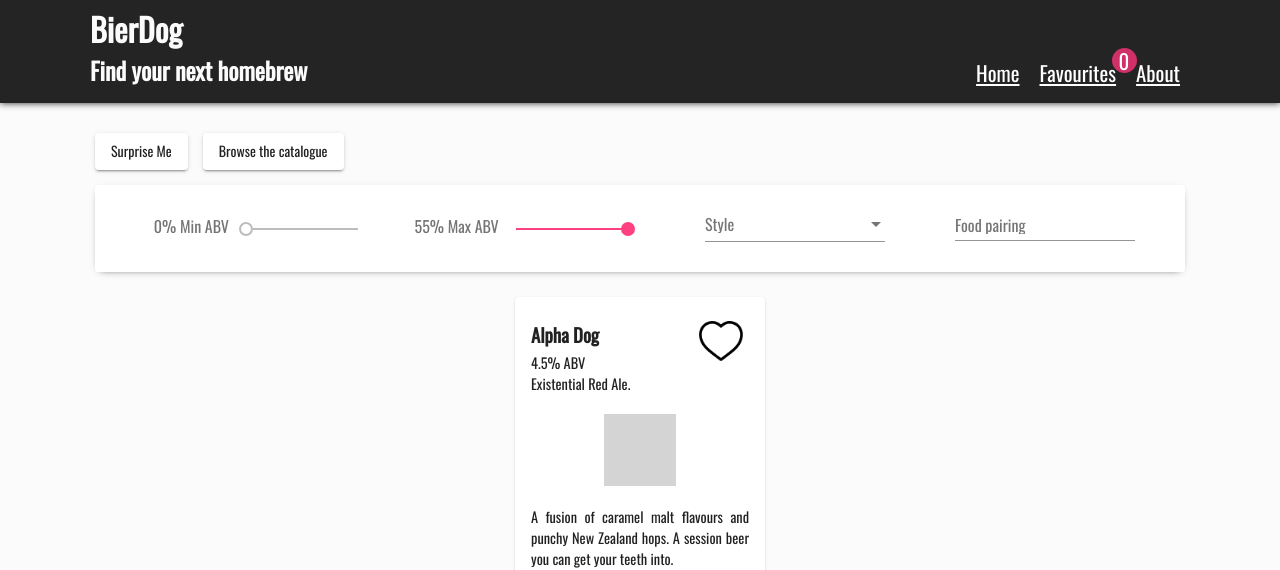
Scenario: the search feature › should edit min slider
Focus the slider with test id "min". click: (302, 229)
box: left=239, top=222, right=365, bottom=236
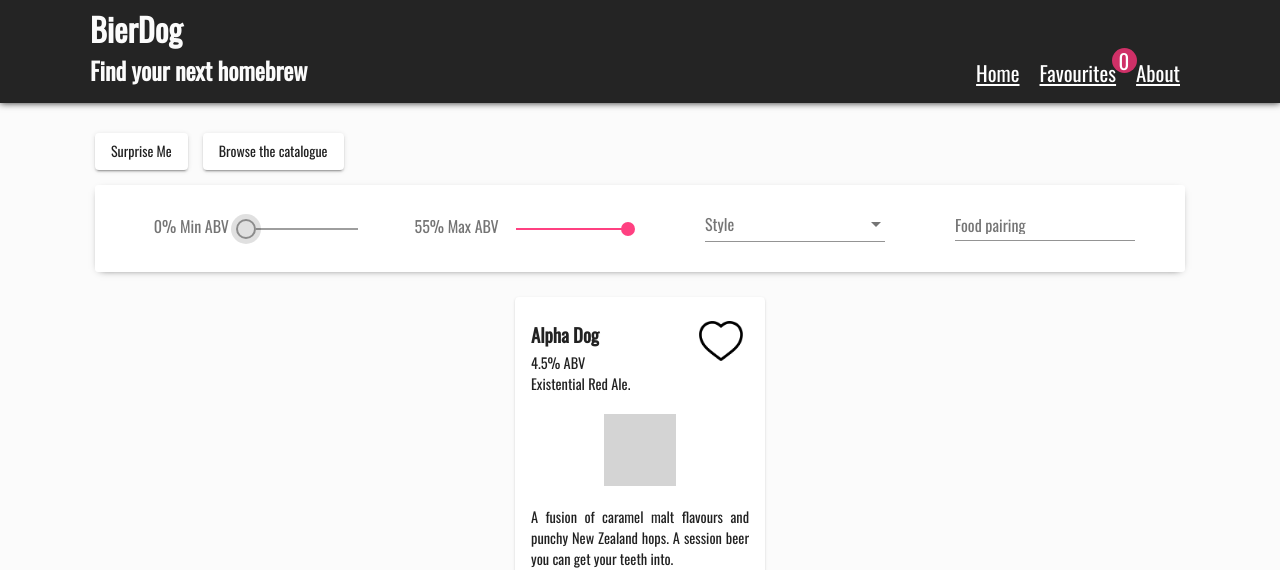
Press Rightarrow Rightarrow Rightarrow {rig in the slider with test id "min", box left=238, top=205, right=366, bottom=253
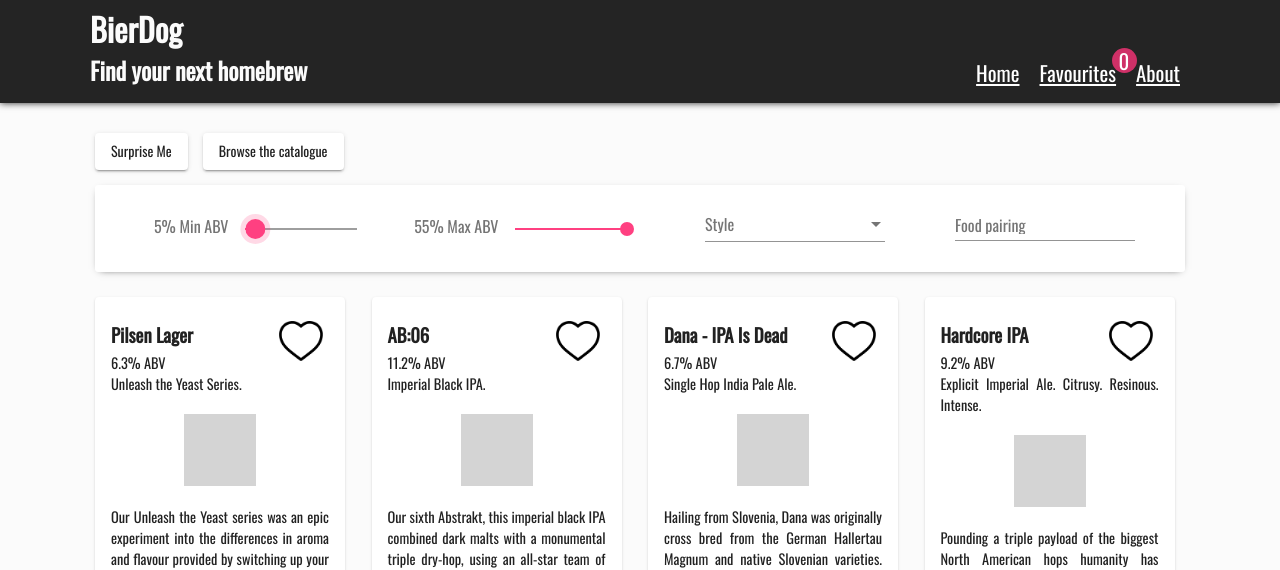
Now the label with test id "min-label" reads "5% Min ABV", box left=154, top=214, right=228, bottom=238
Now the number of elements with test id "bier-card" is 40
